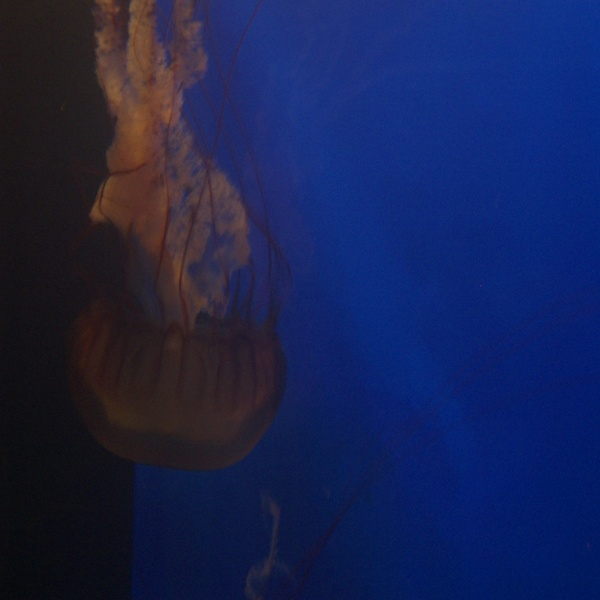Jellyfish: (0, 2, 294, 472)
